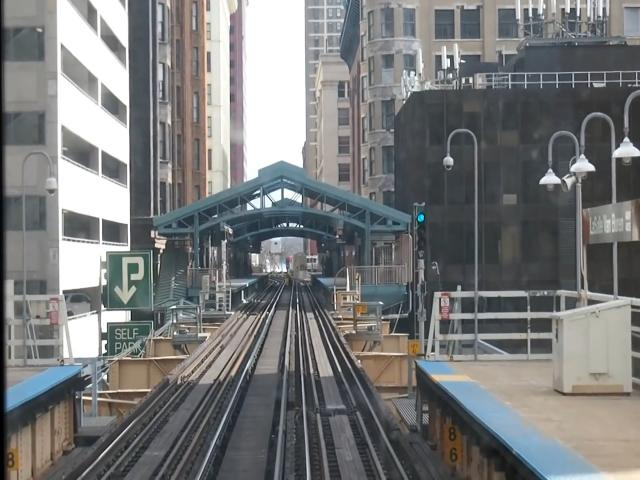signal light: (415, 204, 429, 259)
